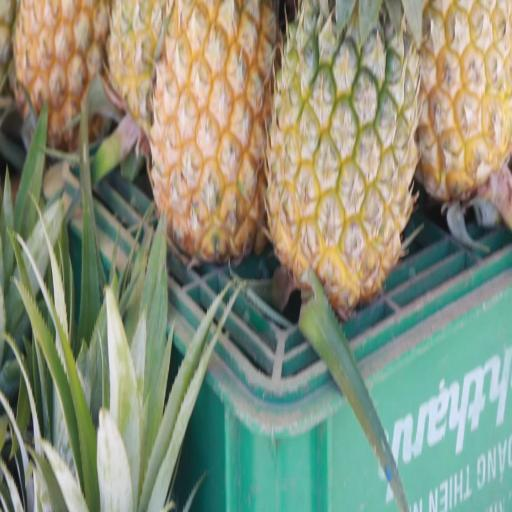------------------------------: (260, 1, 422, 313)
Pineapple - v8 v1: (150, 0, 276, 271), (394, 0, 512, 214)
